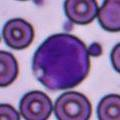M: (32, 33, 88, 90)
